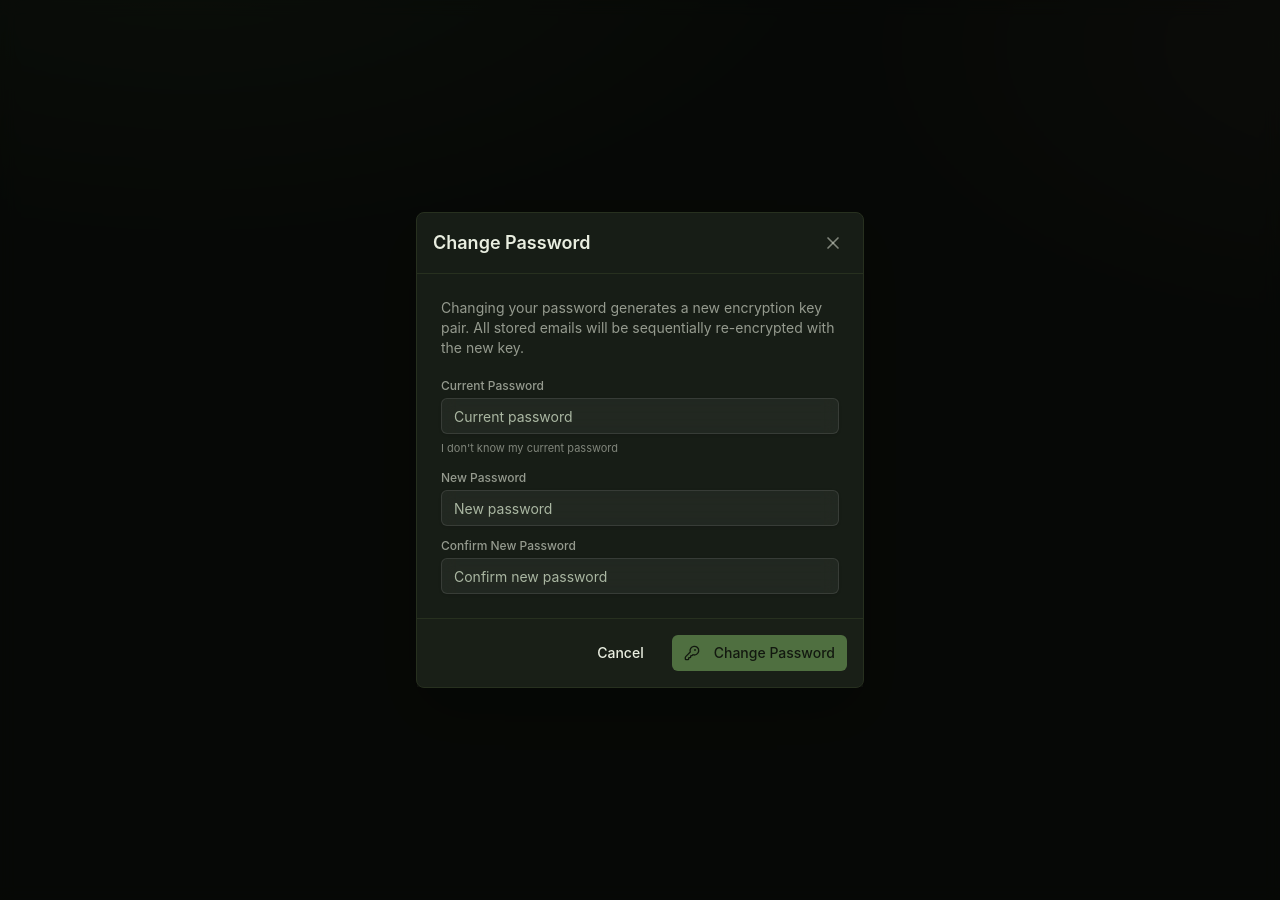
it: changing a forgotten password › offers the recovery path and does not demand the old password
Expected: the password field with placeholder "Current password" is shown, [441,398,839,434]
Click the button "I don't know my current password" at [530, 448], box [441,440,618,456]
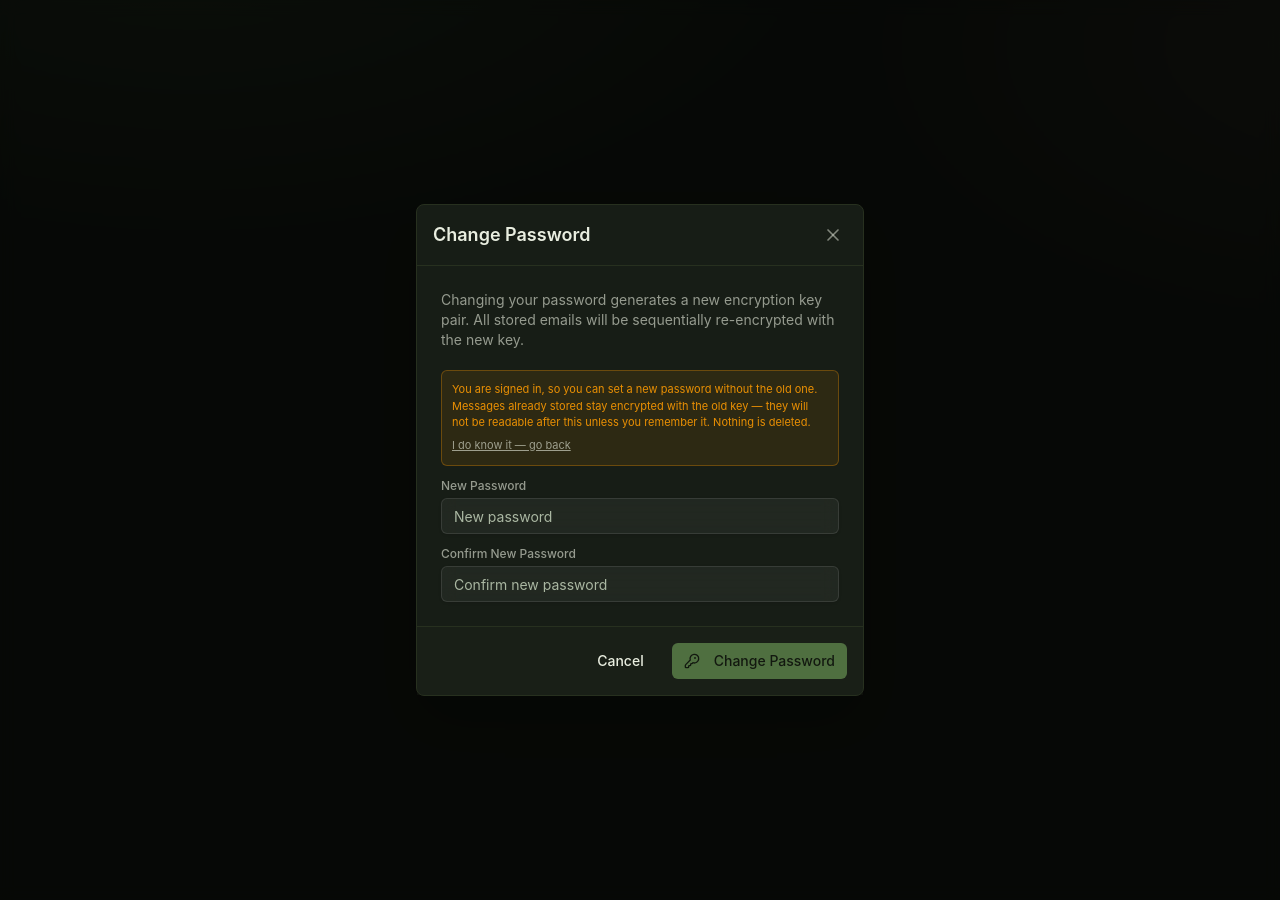
Result: the label with placeholder "Current Password" is gone
Result: the text "can set a new password without the old one" is shown at [452,382,817,429]
Note: With a new password and confirmation, submit becomes possible without the old one.
Type "brand new pass" into the password field with placeholder "New password" at [640, 516], box [441,498,839,534]
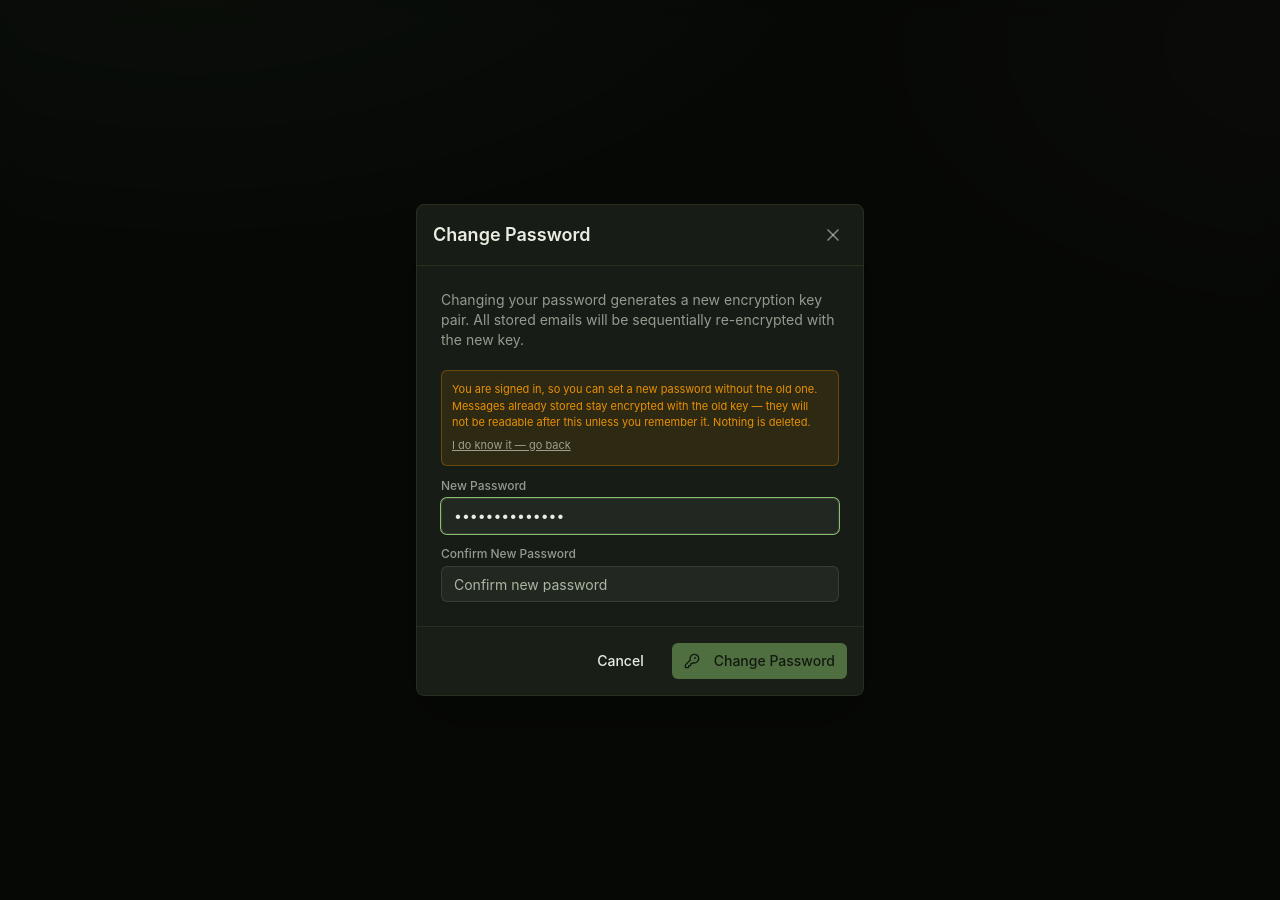
Type "brand new pass" into the password field with placeholder "Confirm new password" at [640, 584], box [441,566,839,602]
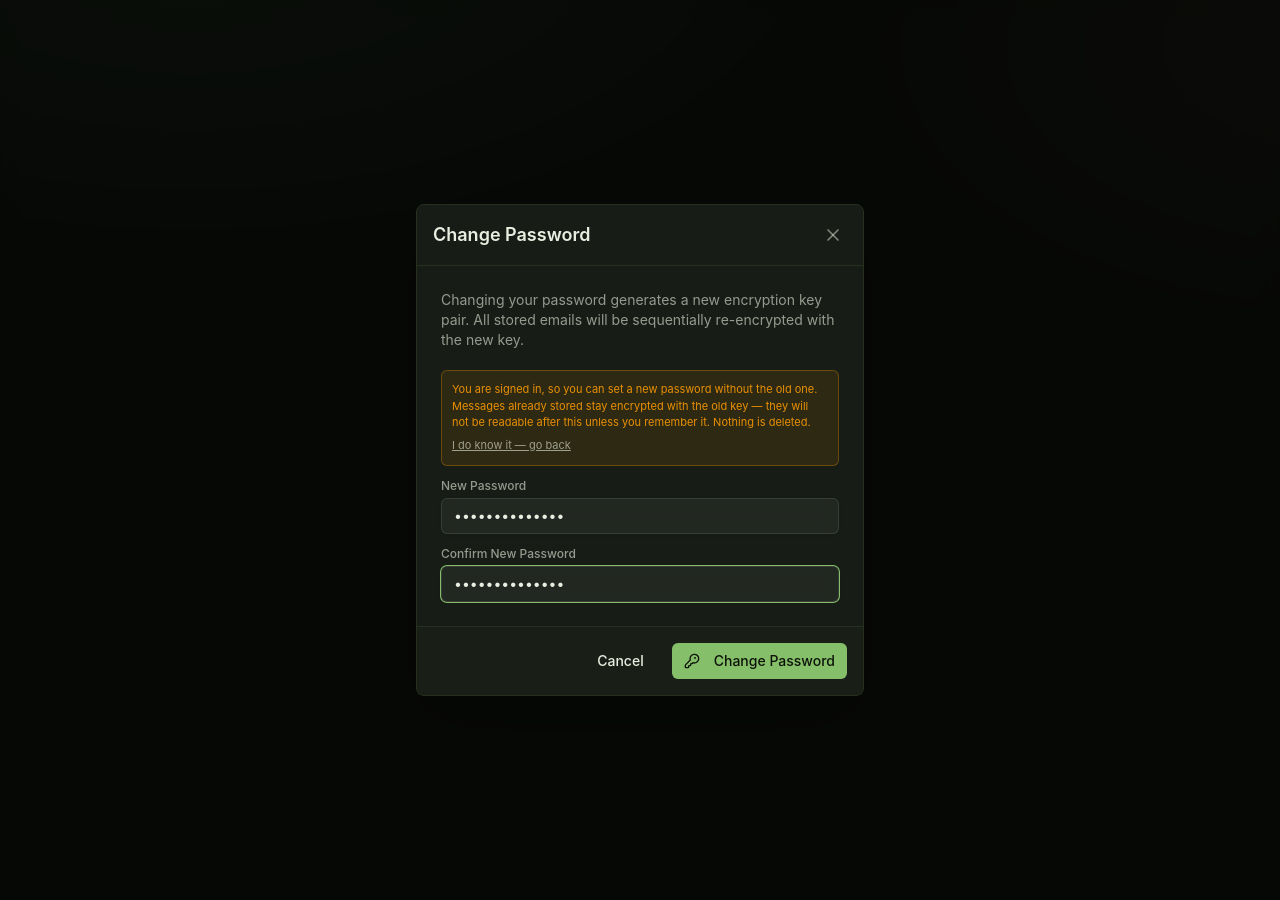
Result: the button "Change Password" is enabled at [672,643,847,679]
